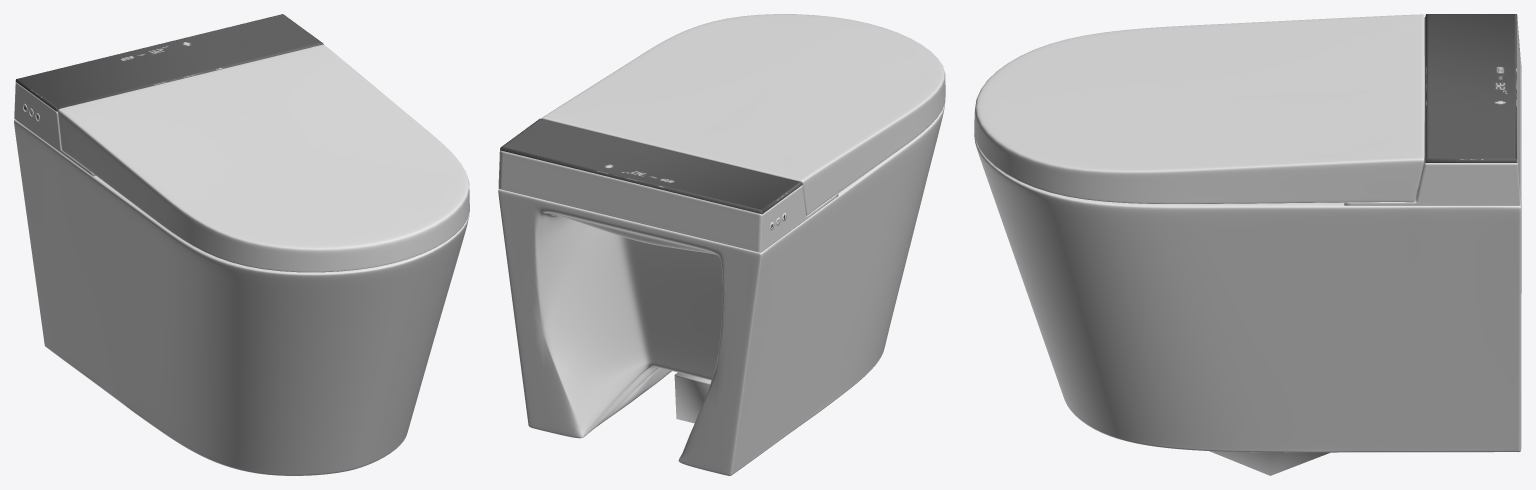
File: toilet_web.glb
3 views of the same model, side by side, from view 1: azimuth 30°, elevation 25°; view 2: azimuth 150°, elevation 25°; view 3: azimuth 270°, elevation 25° (orthographic). The views are drawn at different scales.
Visible parts, largest first — view 1: Box001, Cover; view 2: Box001, Cover; view 3: Box001, Cover.
Boxes of the visible parts, x1,y1,x2,y2 form: Box001: (14,14,469,475); Cover: (58,44,469,272); Box001: (498,104,944,475); Cover: (541,14,945,215); Box001: (974,14,1521,475); Cover: (974,14,1424,203).
Size of the model in its own units: 1.01 by 1.2 by 1.59.
Materials: 18 (4 with a texture image).
